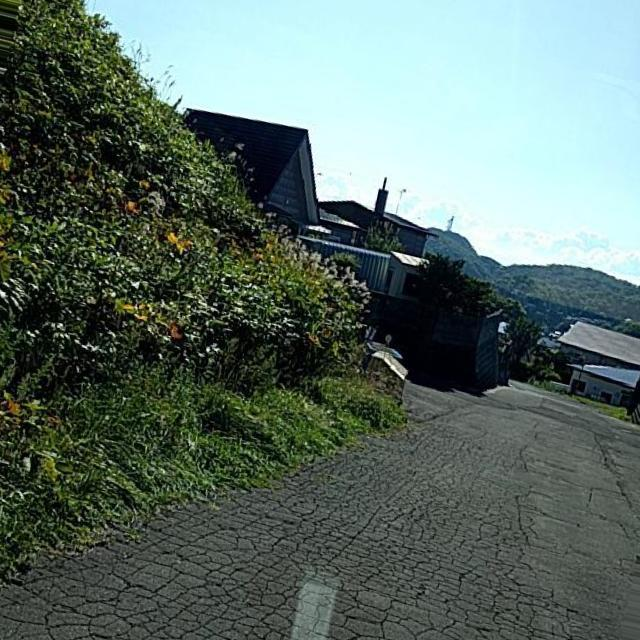Retak Buaya: (0, 416, 550, 640)
